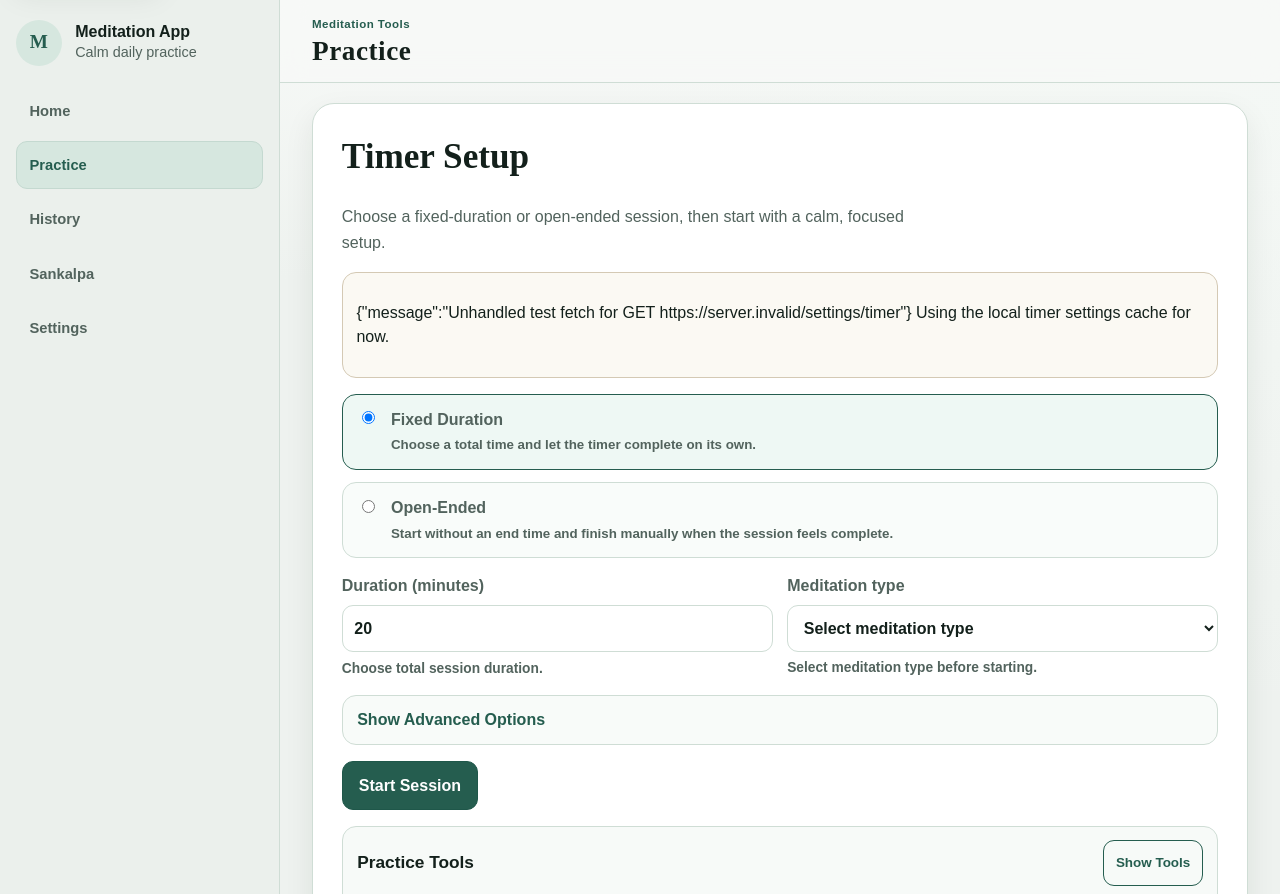
Test: App shell › shows a global active timer resume banner outside Practice
Select "Vipassana" in the dropdown labelled "Meditation type Select meditation type before starting.": [1003, 629] box top-left (787, 605), bottom-right (1218, 652)
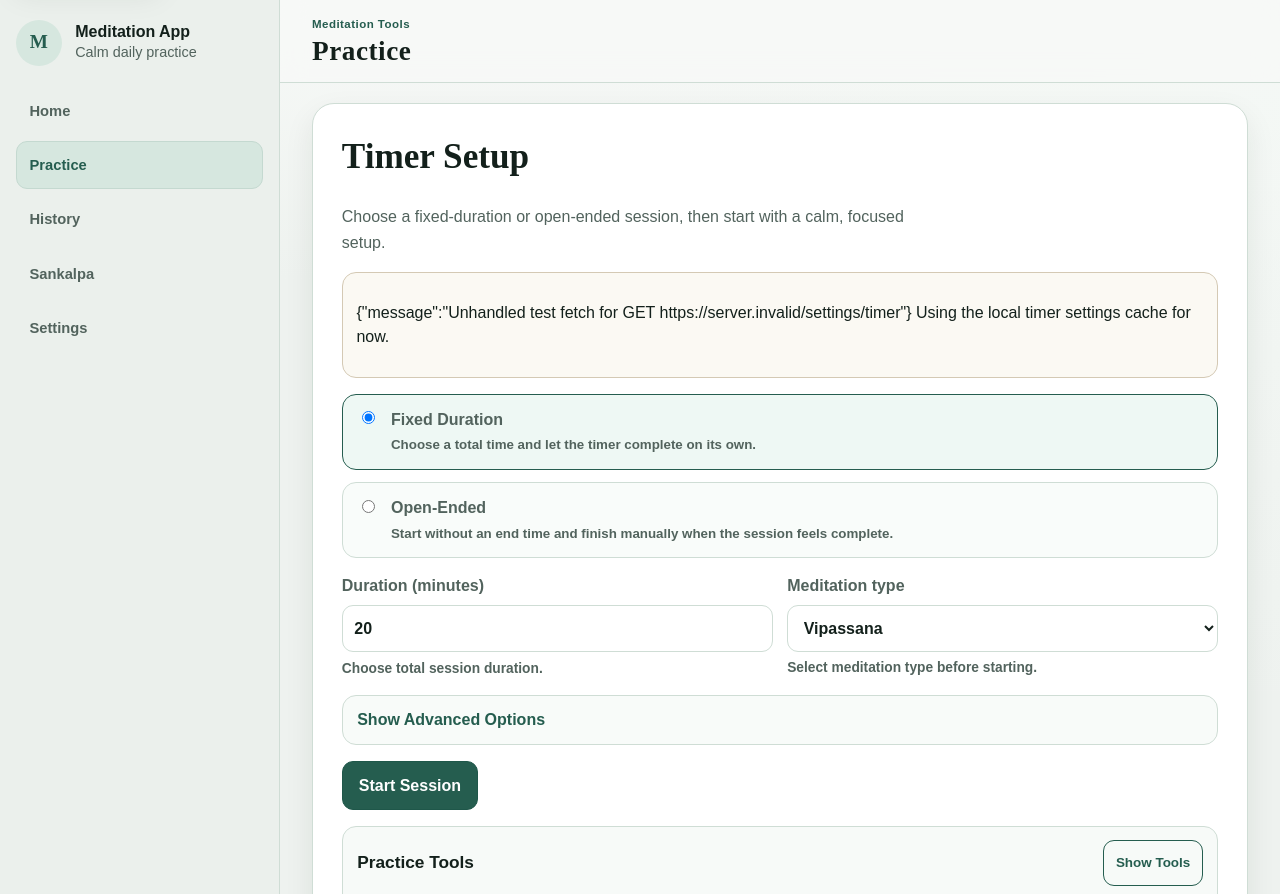
Click the button "Start Session": [410, 786] box top-left (342, 761), bottom-right (478, 810)
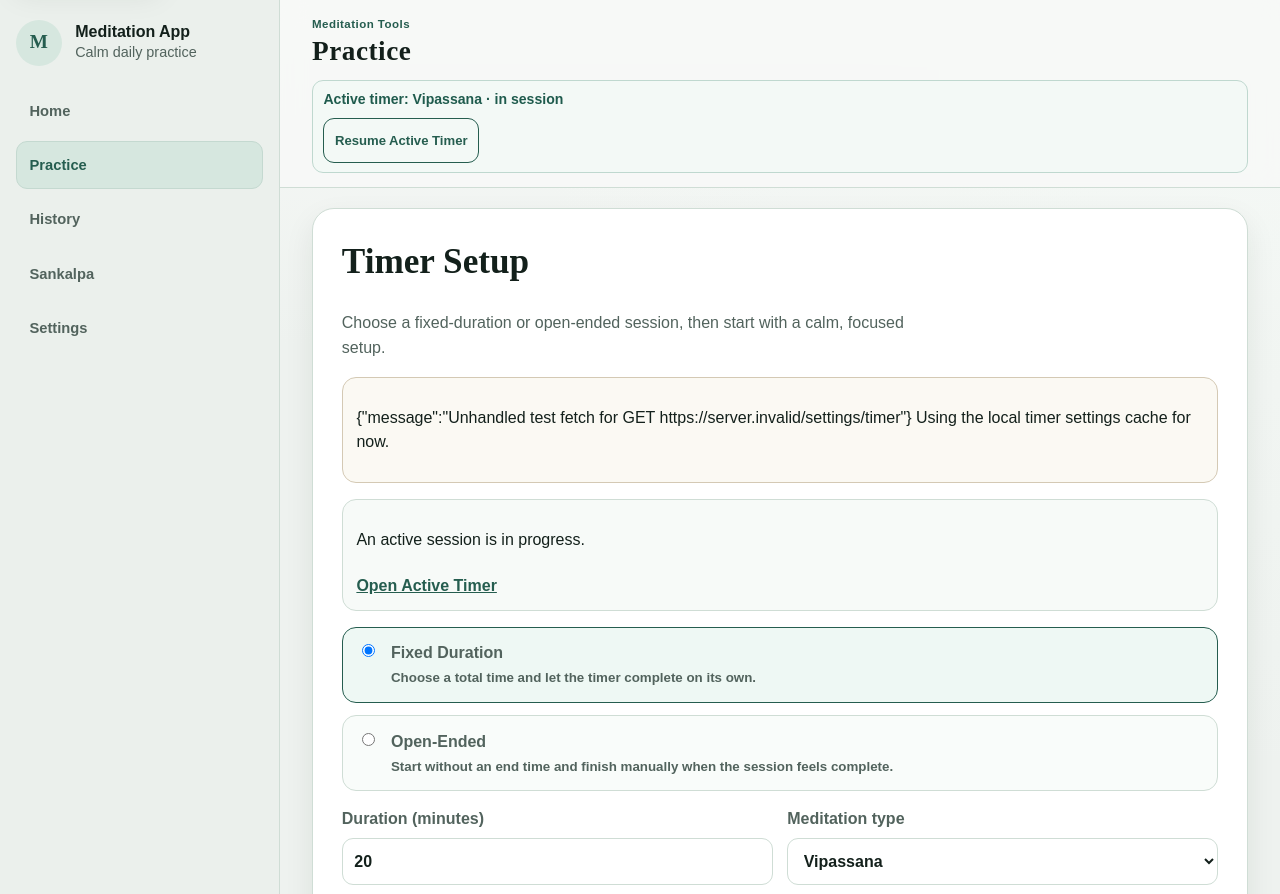
Click the link "History": [55, 219] box top-left (30, 211), bottom-right (80, 227)
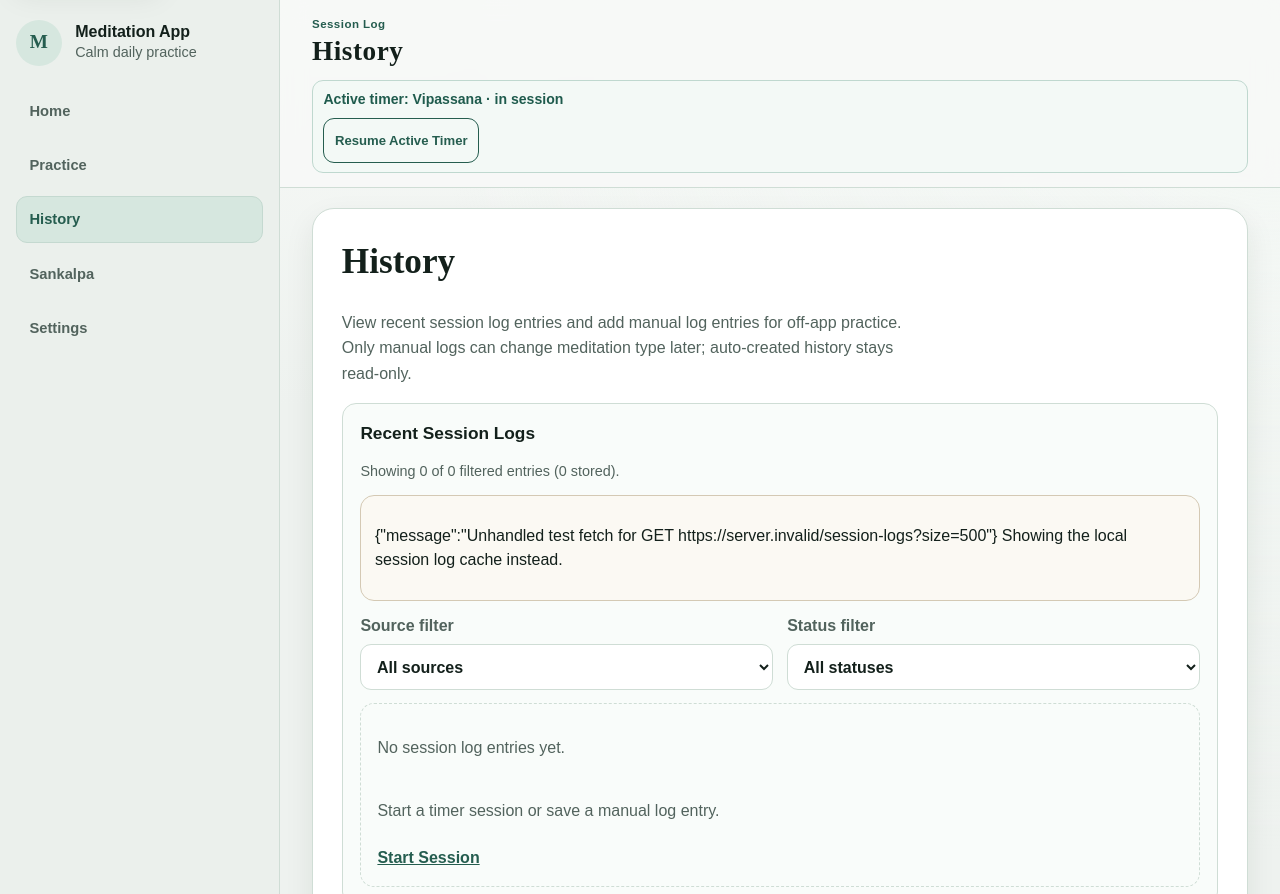
Now the text "Active timer: Vipassana · in session" is shown, box top-left (323, 91), bottom-right (563, 107)
Click the button "Resume Active Timer": [401, 140] box top-left (323, 118), bottom-right (479, 163)
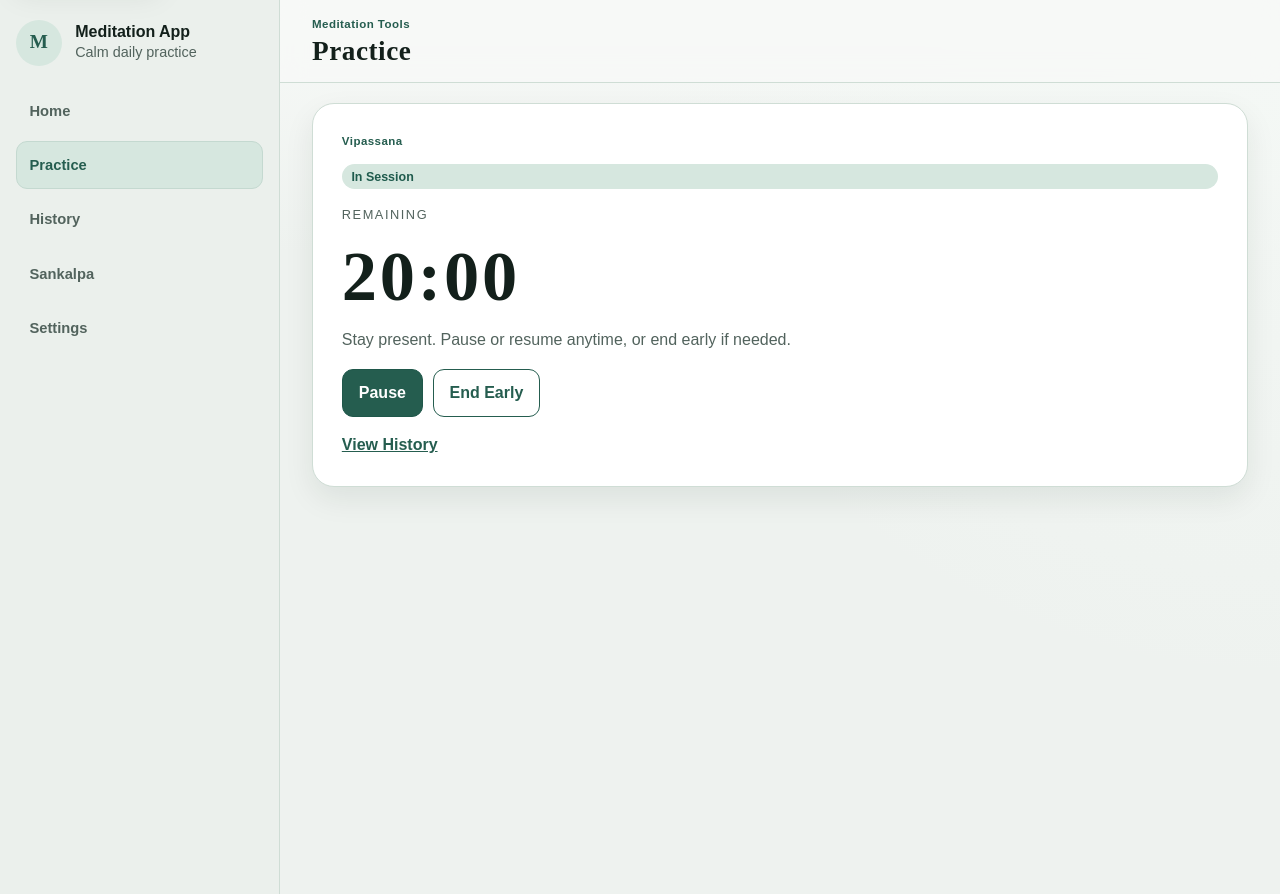
Now the heading "20:00" is shown, box top-left (342, 237), bottom-right (520, 315)
